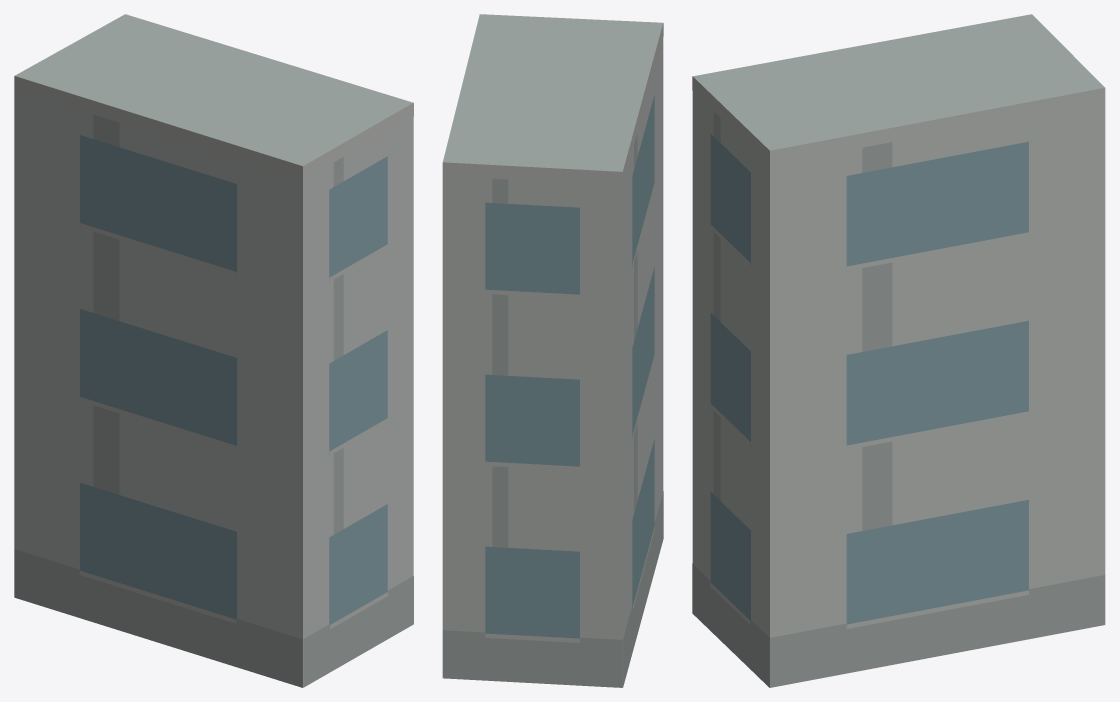
File: survey-upis-32520852.glb
3 renders of one model, left to right at view 1: azimuth 30°, elevation 25°; view 2: azimuth 150°, elevation 25°; view 3: azimuth 270°, elevation 25°, orthographic. The views are drawn at different scales.
Parts seen in each view (by area): view 1: survey-upis-32520852.tmp; view 2: survey-upis-32520852.tmp; view 3: survey-upis-32520852.tmp.
Part boxes in pixels (bbox=[...]): survey-upis-32520852.tmp: bbox=[14, 14, 413, 687]; survey-upis-32520852.tmp: bbox=[442, 14, 663, 687]; survey-upis-32520852.tmp: bbox=[692, 14, 1105, 687].
Size of the model in its own units: 5 by 9.15 by 6.38.
